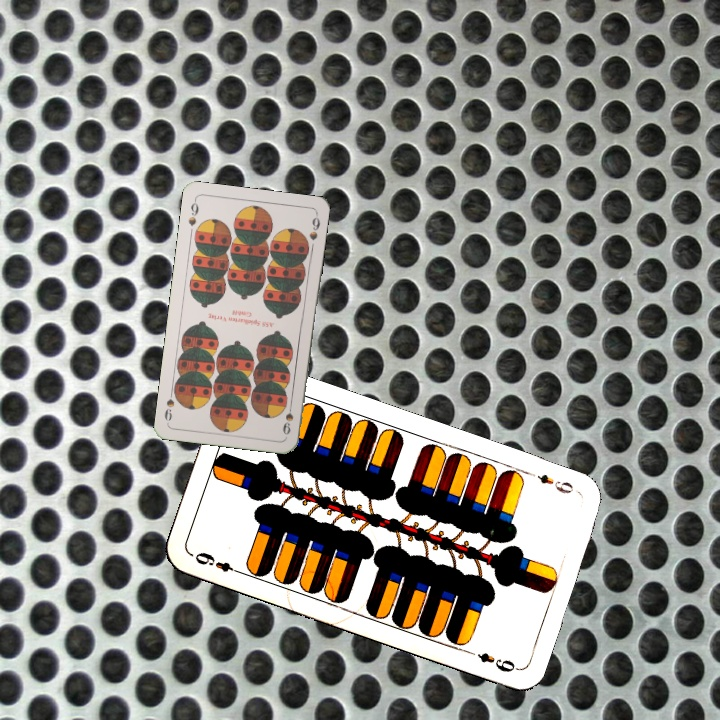E9: (190, 548, 245, 577), (533, 470, 577, 497)
S9: (279, 398, 296, 437), (184, 196, 201, 229)
